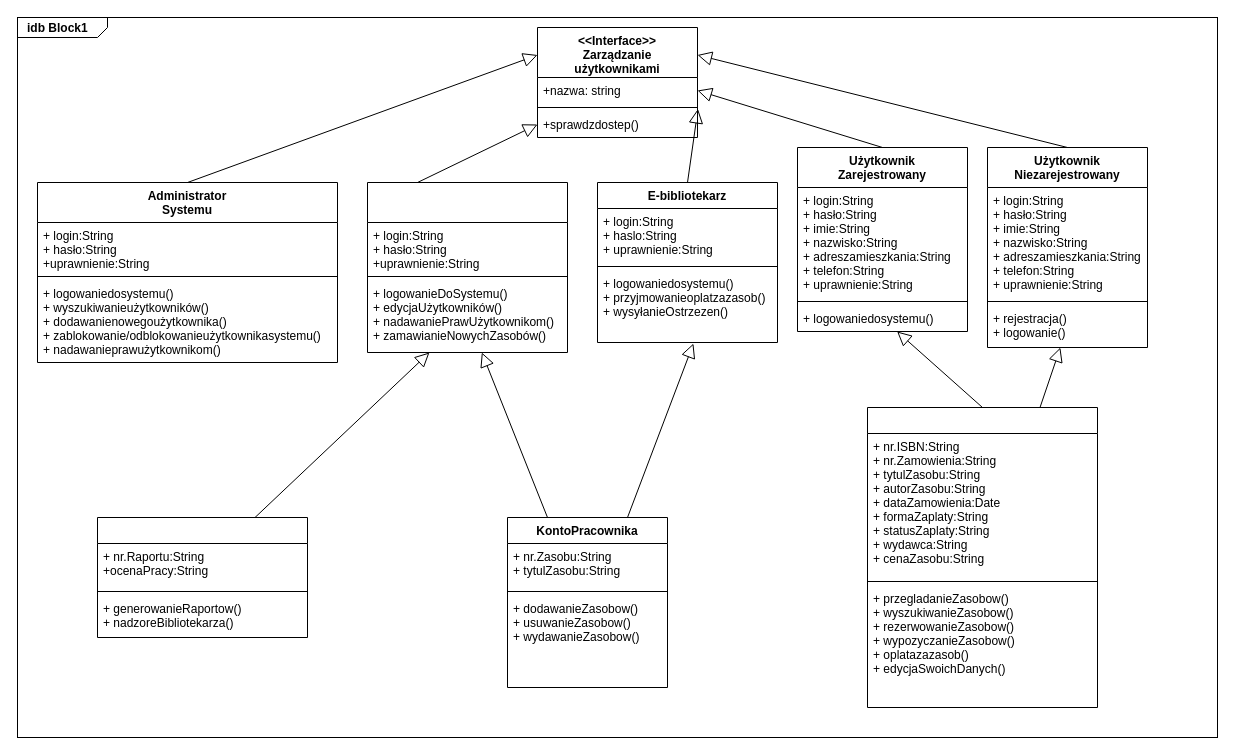
The diagram is 1235 pixels wide and 755 high, and some of its shapes have lost their labels. Here are the shapes that lost their labels. From the top down, the box of each, then its label:
(366, 182, 568, 352): Kierownik Biblioteki
(96, 516, 308, 638): Analiza funkcjonowania e-biblioteki
(866, 406, 1098, 708): Konto Czytelnika
